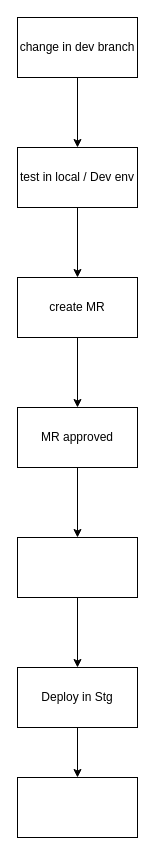
Image size: 155x855. Some labels were removed from this diagram. The centre of each missing label's shape, as x and y in pixels:
"Deploy in Prd" goes at point (77, 807).
"MR Merged" goes at point (77, 567).
